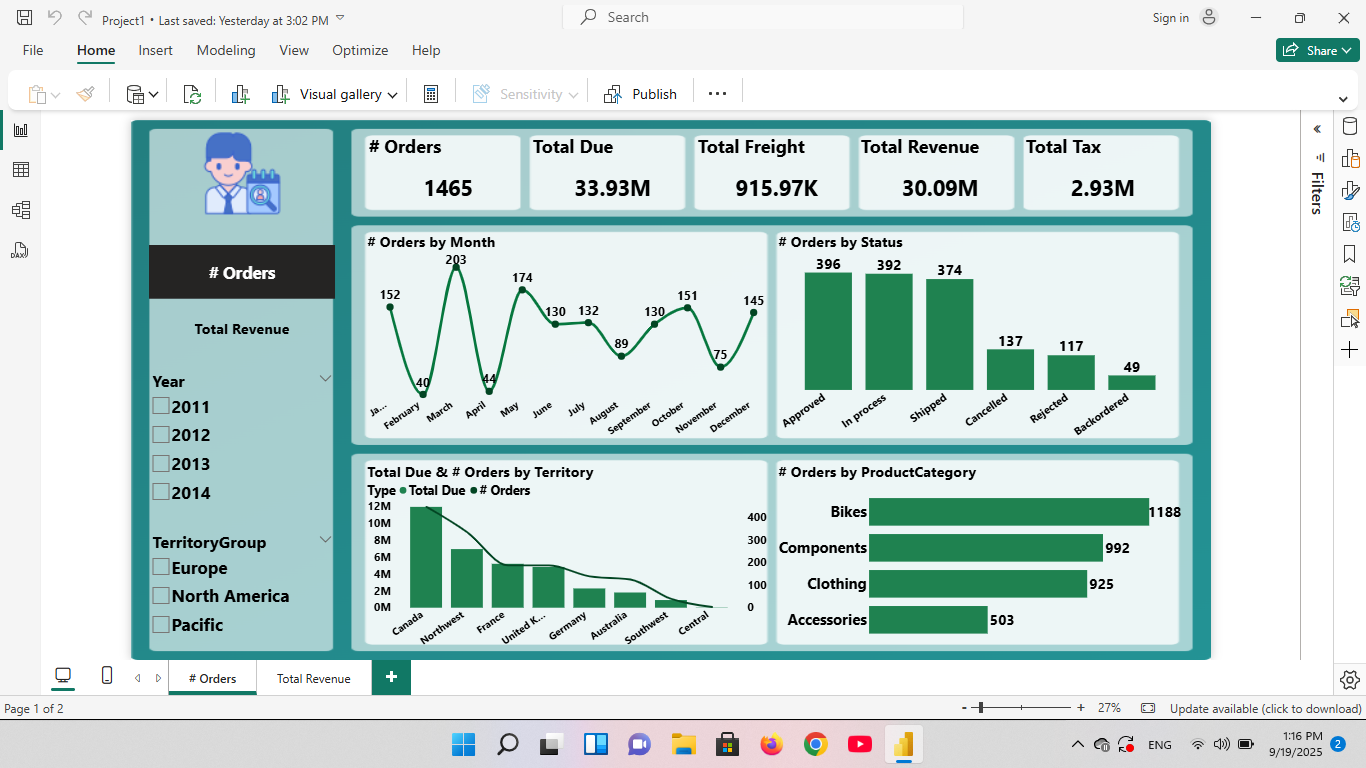

Layout of this report page (visuals, bound fields, positions):
{"tool":"powerbi","page":{"name":"# Orders","canvas":[4000,2000],"ordinal":0},"visuals":[{"type":"card","title":"# Orders","fields":{"Values":["Measures (2).# Orders"]},"box":[869.4,40.8,608.2,314.3],"z":0},{"type":"card","title":"Total Due","fields":{"Values":["Measures (2).Total Due"]},"box":[1477.6,40.8,612.2,314.3],"z":1000},{"type":"card","title":"Total Revenue","fields":{"Values":["Measures (2).Total Line"]},"box":[2693.9,40.8,608.2,314.3],"z":2000},{"type":"card","title":"Total Freight","fields":{"Values":["Measures (2).Total Freight"]},"box":[2089.8,40.8,604.1,314.3],"z":3000},{"type":"card","title":"Total Tax","fields":{"Values":["Measures (2).Total Tax"]},"box":[3302,40.8,591.8,314.3],"z":4000},{"type":"clusteredColumnChart","fields":{"Category":["dim_Status.Status"],"Y":["Measures (2).# Orders"]},"box":[2391.8,412.2,1502,783.7],"z":5000},{"type":"lineClusteredColumnComboChart","title":"Total Due & # Orders by Territory","fields":{"Category":["dim_Territory.Territory"],"Y":["Measures (2).Total Due"],"Y2":["Measures (2).# Orders"]},"box":[869.4,1261.2,1489.8,702],"z":6000},{"type":"lineChart","fields":{"Category":["dim_Date.Date.Variation.Date Hierarchy.Month"],"Y":["Measures (2).# Orders"]},"box":[869.4,412.2,1489.8,783.7],"z":7000},{"type":"clusteredBarChart","fields":{"Category":["dim_Product.ProductCategory"],"Y":["Measures (2).# Orders"]},"box":[2391.8,1261.2,1502,702],"z":8000},{"type":"image","box":[65.3,40.8,689.8,314.3],"z":9000},{"type":"pageNavigator","box":[65.3,461.2,689.8,408.2],"z":10000},{"type":"slicer","fields":{"Values":["dim_Territory.TerritoryGroup"]},"box":[65.3,1514.3,689.8,449],"z":11000},{"type":"slicer","fields":{"Values":["dim_Date.Year"]},"box":[65.3,918.4,689.8,555.1],"z":11001}]}

Visuals, with their boxes on the page's 4000x2000 design canvas (x1, y1, x2, y2). These are canvas units, not pixel positions in the 1366x768 screenshot, which may show the page scaled, cropped or inside an application window:
"# Orders" card: 869,41,1478,355
"Total Due" card: 1478,41,2090,355
"Total Revenue" card: 2694,41,3302,355
"Total Freight" card: 2090,41,2694,355
"Total Tax" card: 3302,41,3894,355
clusteredColumnChart - dim_Status.Status x Measures (2).# Orders: 2392,412,3894,1196
"Total Due & # Orders by Territory" lineClusteredColumnComboChart: 869,1261,2359,1963
lineChart - dim_Date.Date.Variation.Date Hierarchy.Month x Measures (2).# Orders: 869,412,2359,1196
clusteredBarChart - dim_Product.ProductCategory x Measures (2).# Orders: 2392,1261,3894,1963
image: 65,41,755,355
pageNavigator: 65,461,755,869
slicer - dim_Territory.TerritoryGroup: 65,1514,755,1963
slicer - dim_Date.Year: 65,918,755,1474
